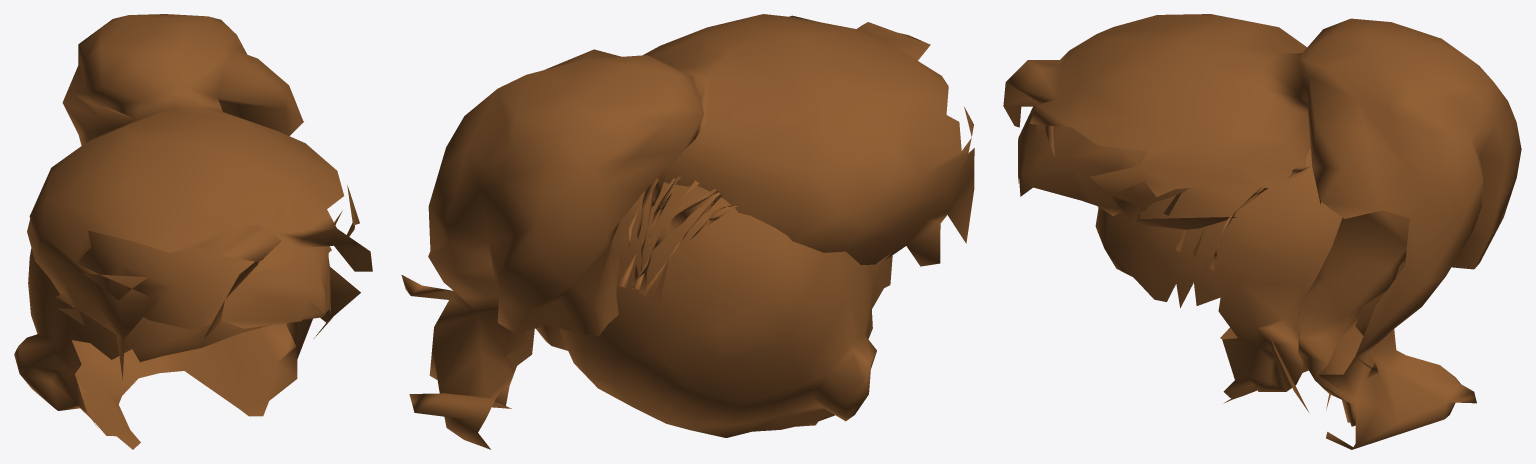
Rendered from high-ponytail.glb.
3 renders of one model, left to right at view 1: azimuth 30°, elevation 25°; view 2: azimuth 150°, elevation 25°; view 3: azimuth 270°, elevation 25°, orthographic. The views are drawn at different scales.
Parts seen in each view (by area): view 1: Hair, HairScalp; view 2: Hair, HairScalp, HairPulledRootStrands; view 3: Hair, HairScalp, HairPulledRootStrands.
Part boxes in pixels (x1,y1,x2,y2): Hair: [27, 14, 372, 380]; HairScalp: [14, 248, 330, 449]; Hair: [401, 14, 974, 449]; HairScalp: [536, 179, 892, 437]; HairPulledRootStrands: [618, 175, 737, 301]; Hair: [1003, 14, 1521, 449]; HairScalp: [1095, 149, 1405, 402]; HairPulledRootStrands: [1163, 153, 1310, 270].
Size of the model in its own units: 0.597 by 0.5113 by 0.6781.
